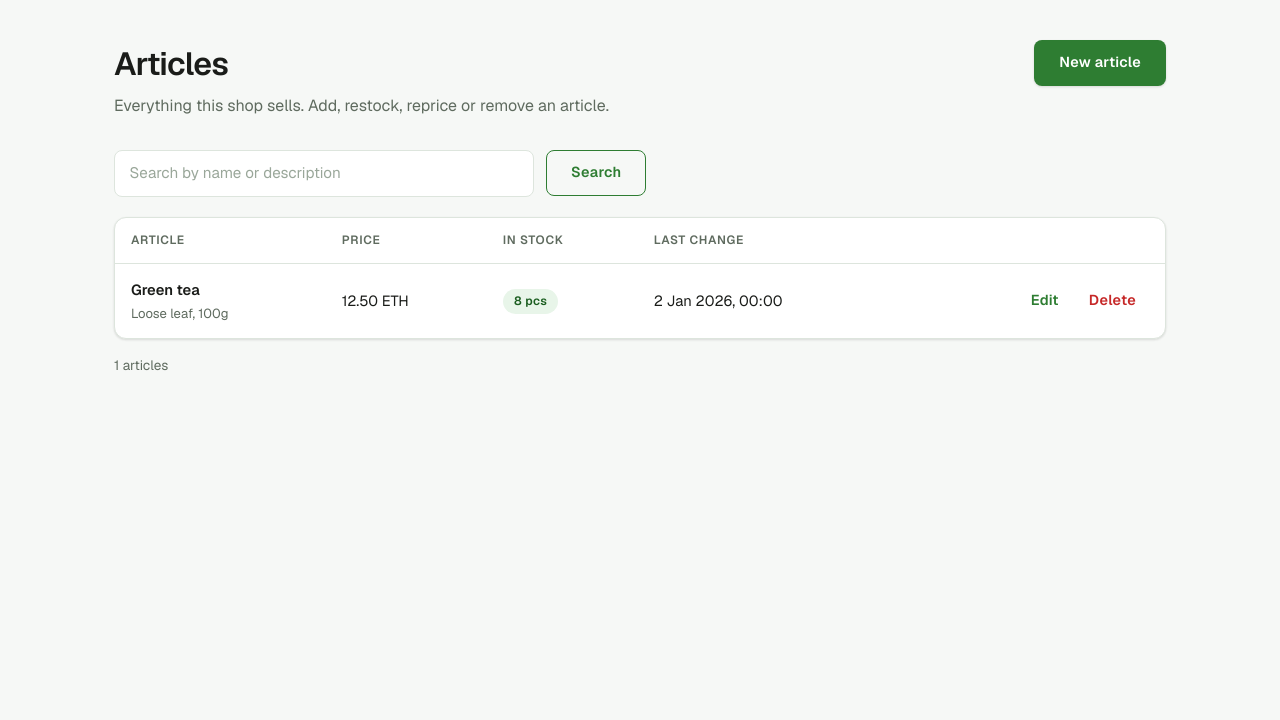
AdminArticlesPage › adding an article › keeps the form open and shows the reason when the backend refuses
Click the button "New article" at (1100, 63), box x1=1034 y1=40 x2=1166 y2=86
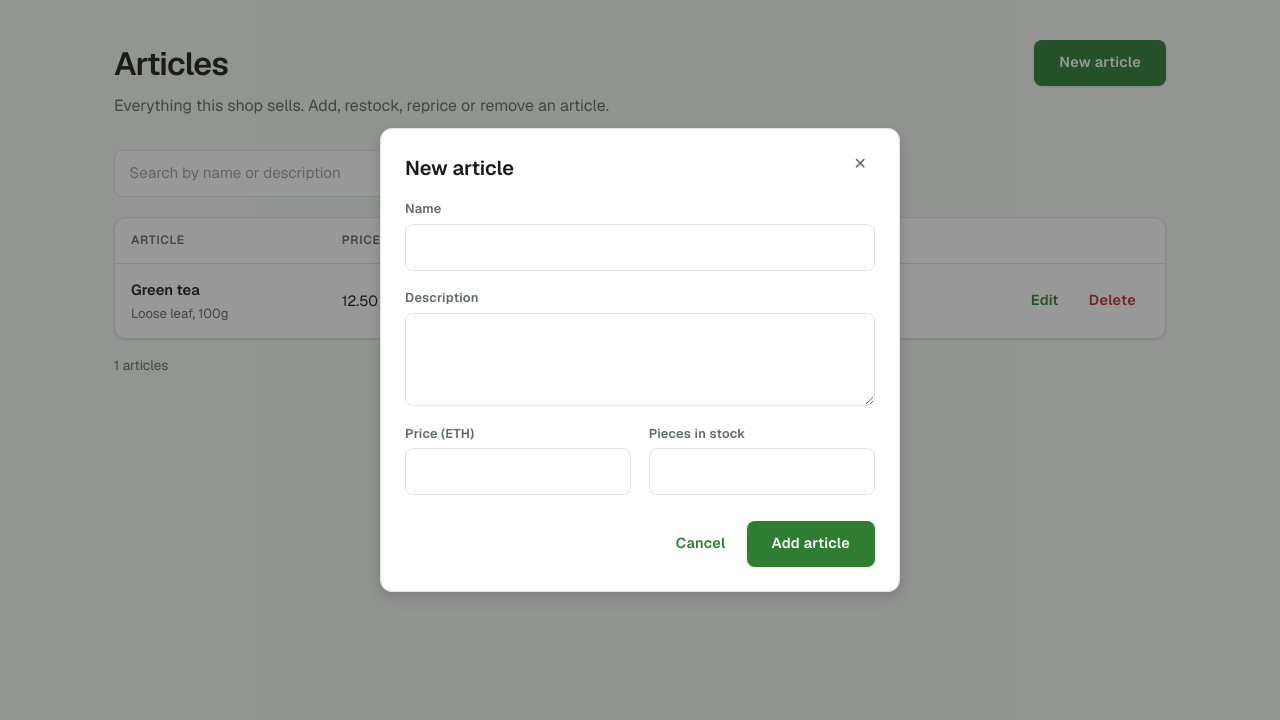
Type "Rooibos" into the field labelled "Name" at (640, 247), box x1=405 y1=224 x2=875 y2=271
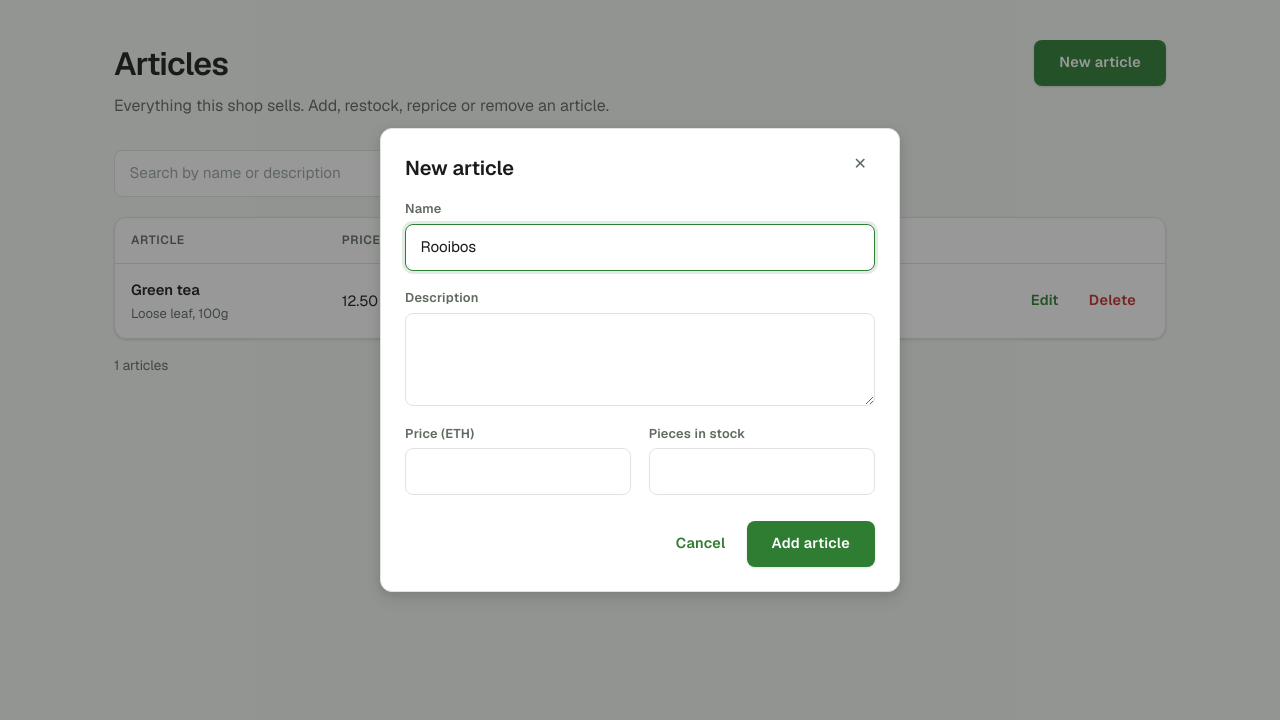
Type "9.99" into the number field labelled "Price (ETH)" at (518, 472), box x1=405 y1=448 x2=631 y2=496
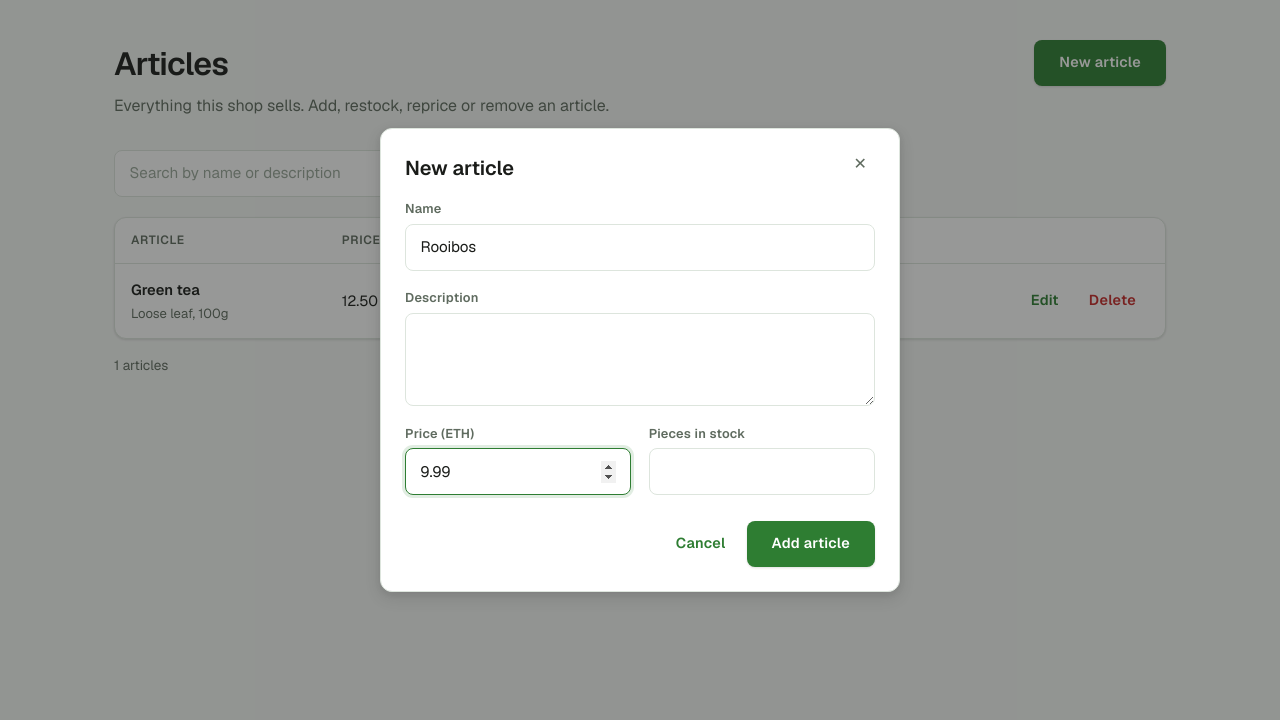
Type "12" into the number field labelled "Pieces in stock" at (762, 472), box x1=649 y1=448 x2=875 y2=496
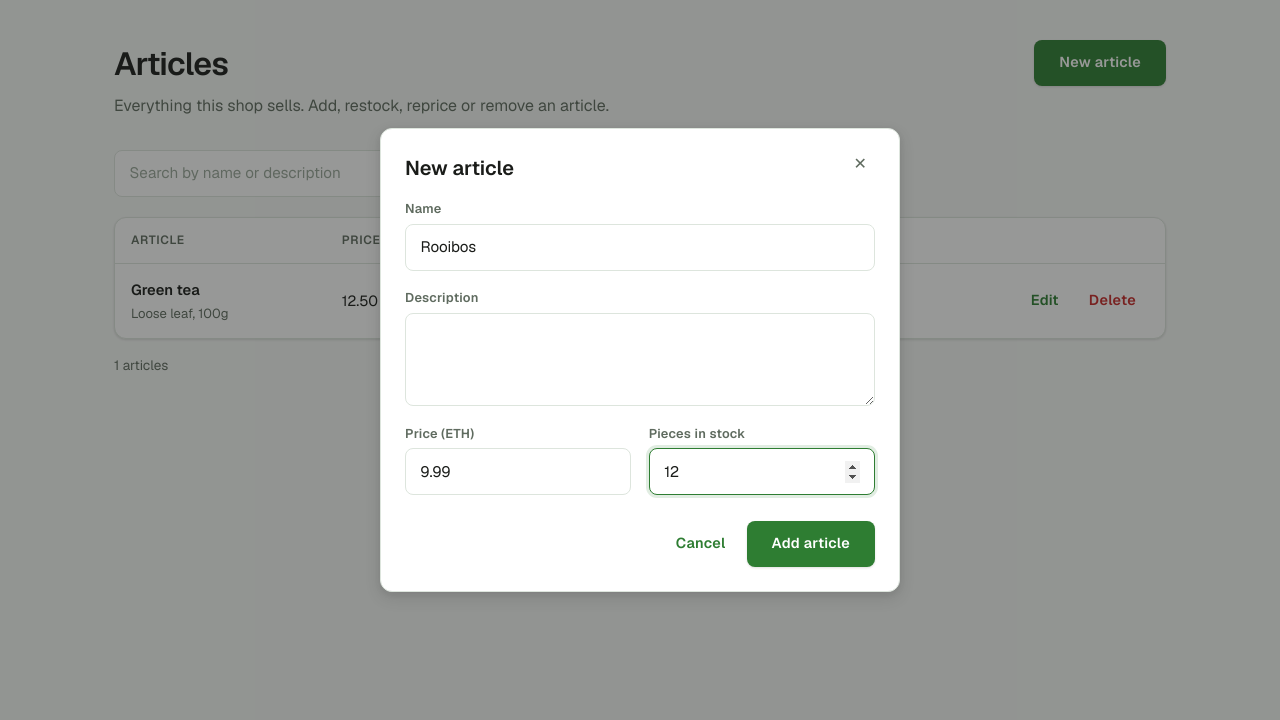
Click the button "Add article" at (811, 544), box x1=746 y1=521 x2=875 y2=567
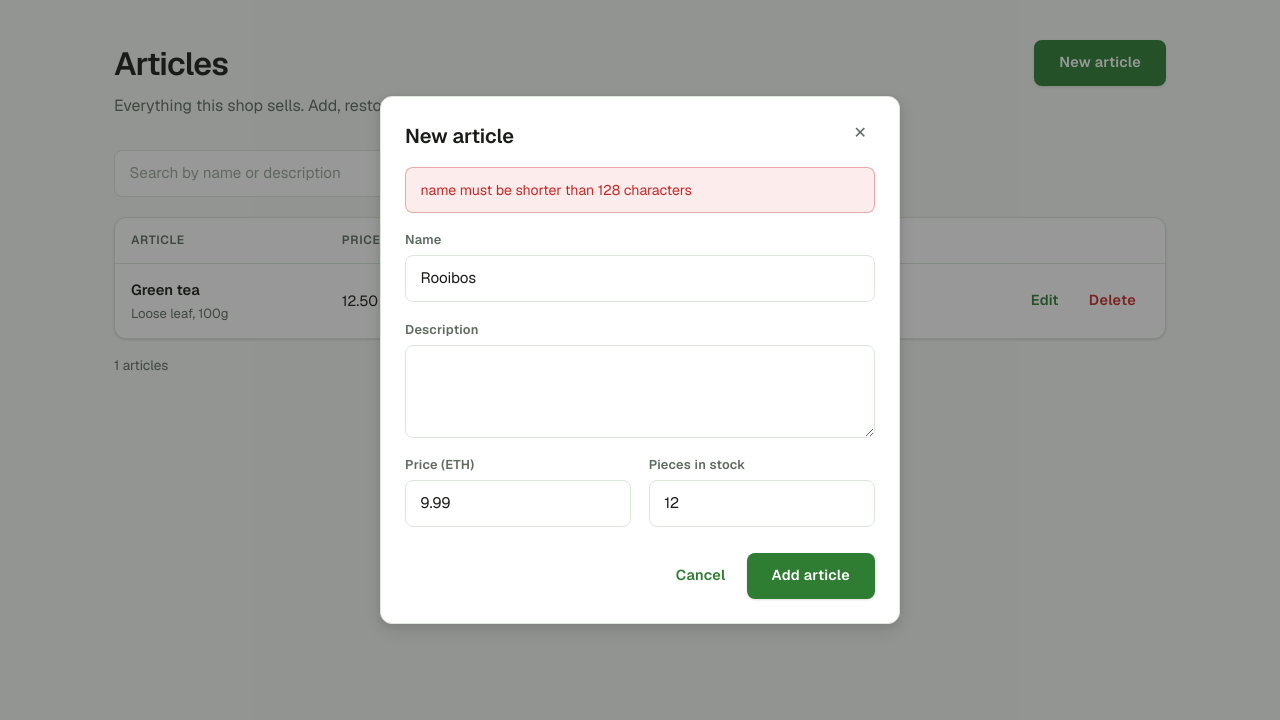
Now the dialog is shown, box x1=380 y1=96 x2=900 y2=624
Now the text "name must be shorter than 128 characters" is shown, box x1=405 y1=167 x2=875 y2=213
